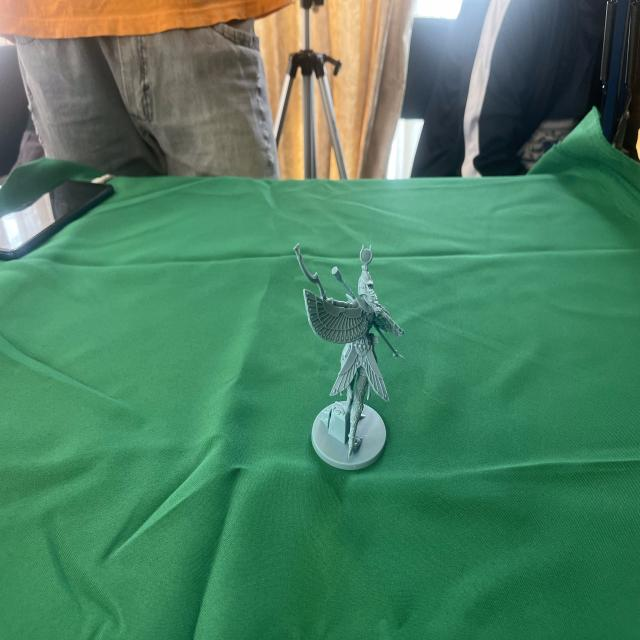isis: (283, 216, 417, 492)
